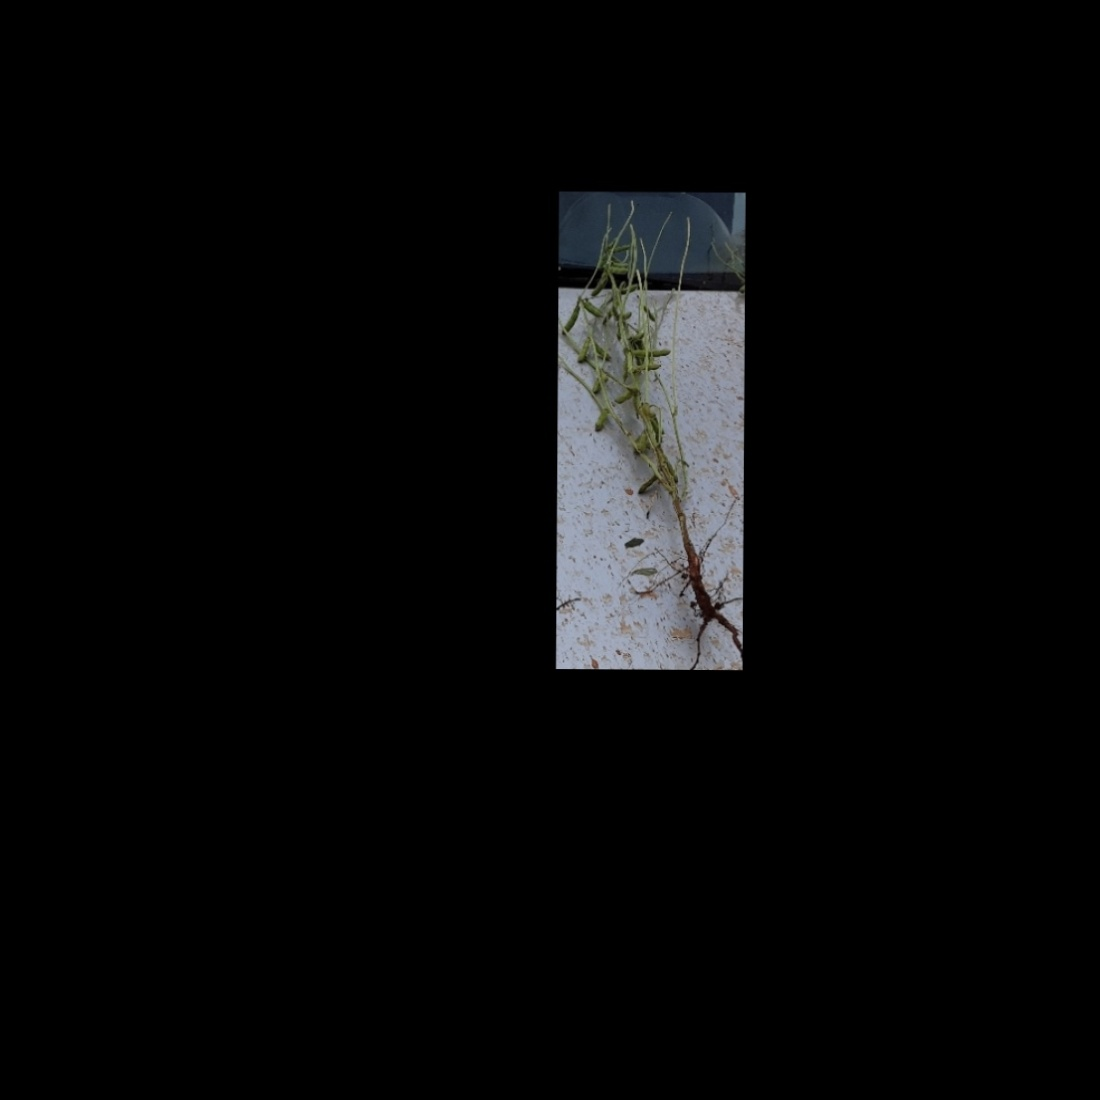pod: (562, 301, 581, 336), (632, 473, 659, 498), (579, 296, 607, 319), (574, 332, 592, 368), (592, 408, 608, 434), (604, 265, 630, 276)
soy: (559, 204, 740, 645)
